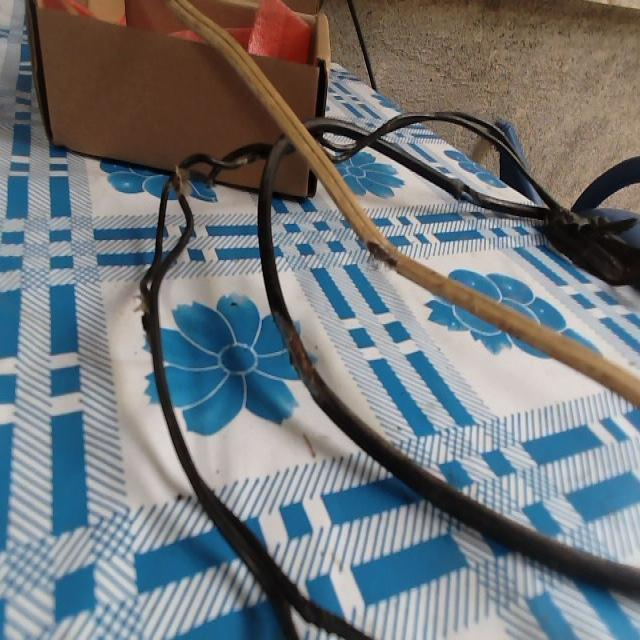-: (274, 309, 315, 399), (365, 236, 394, 267)
